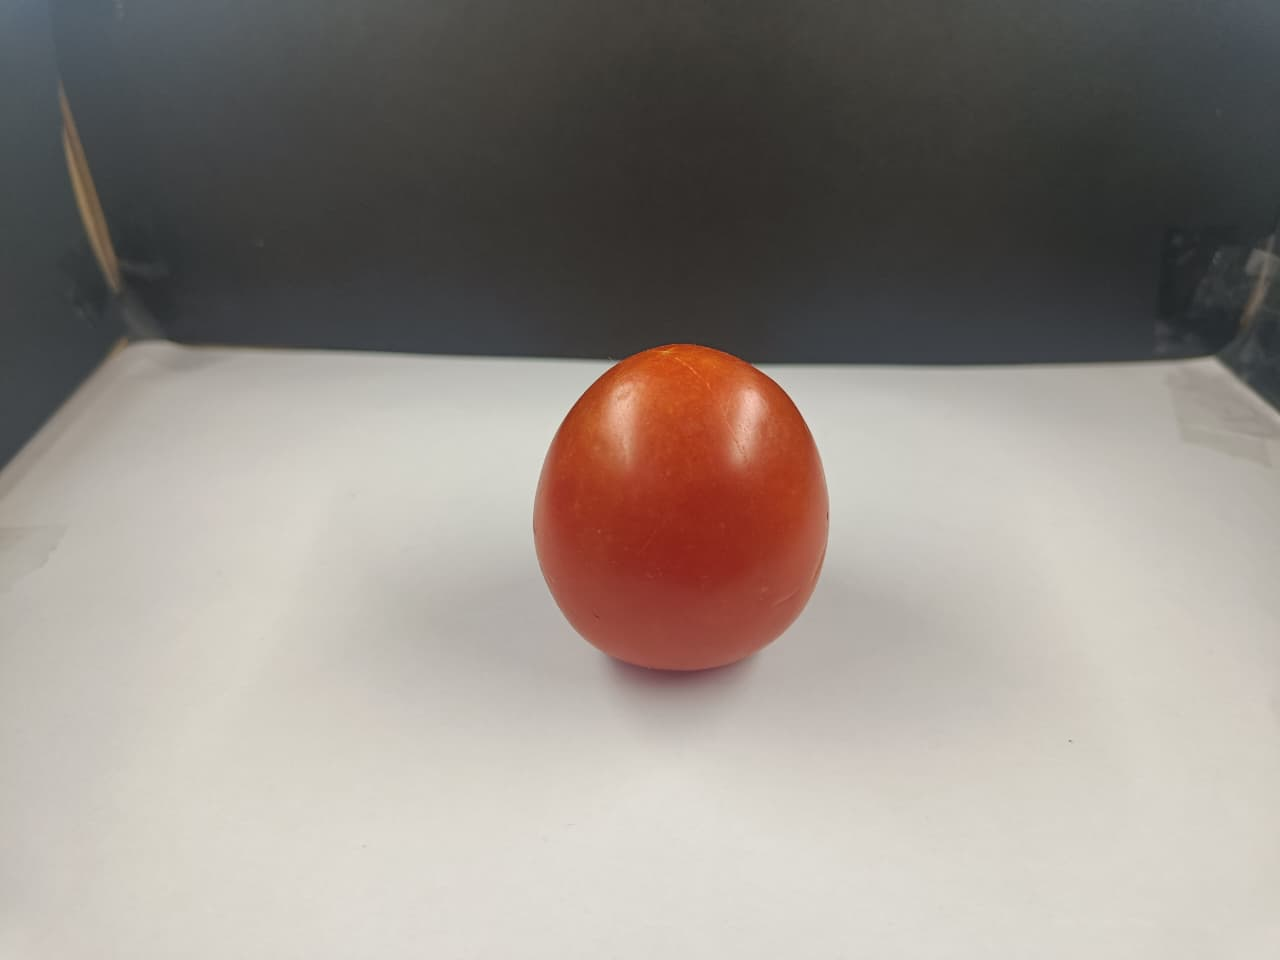ripe: (532, 330, 819, 676)
